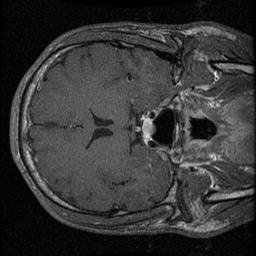pituitary tumour: (141, 112, 156, 145)
